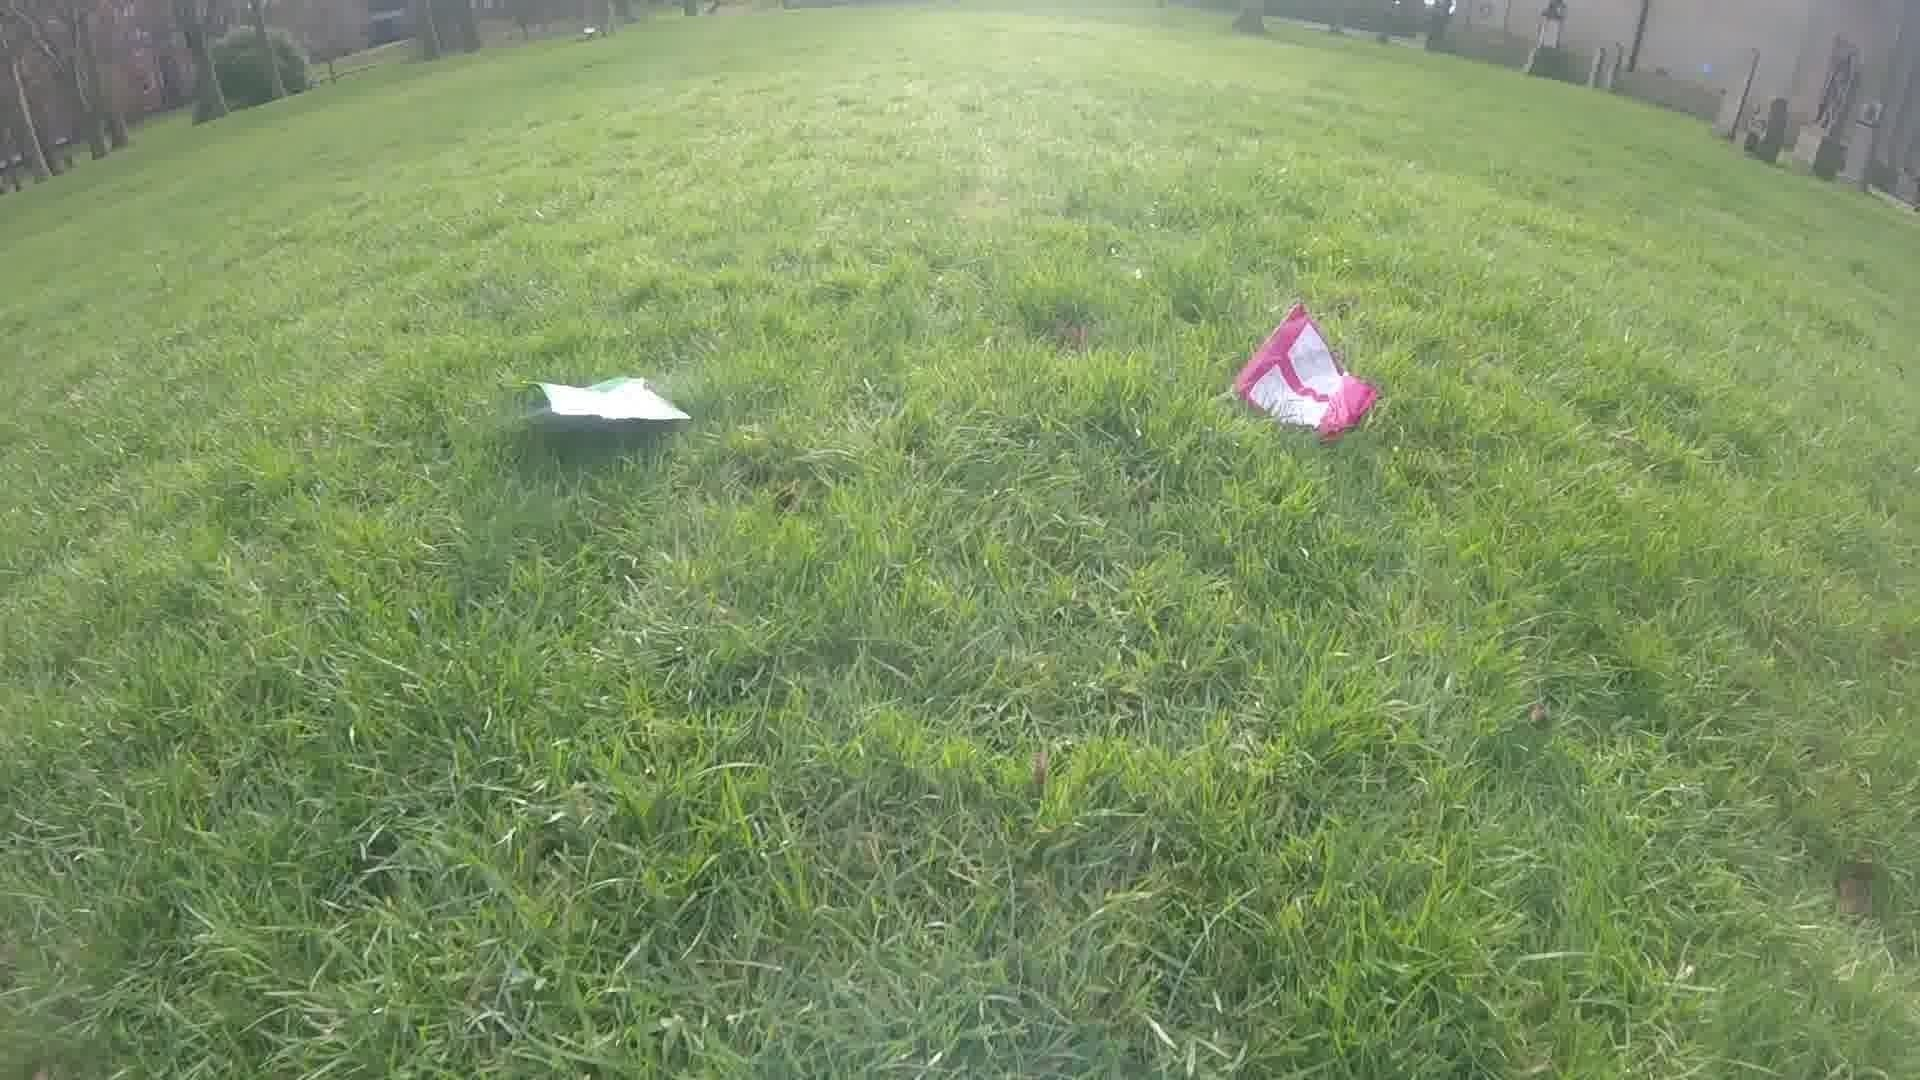litter: (1250, 313, 1375, 450), (510, 378, 690, 423)
